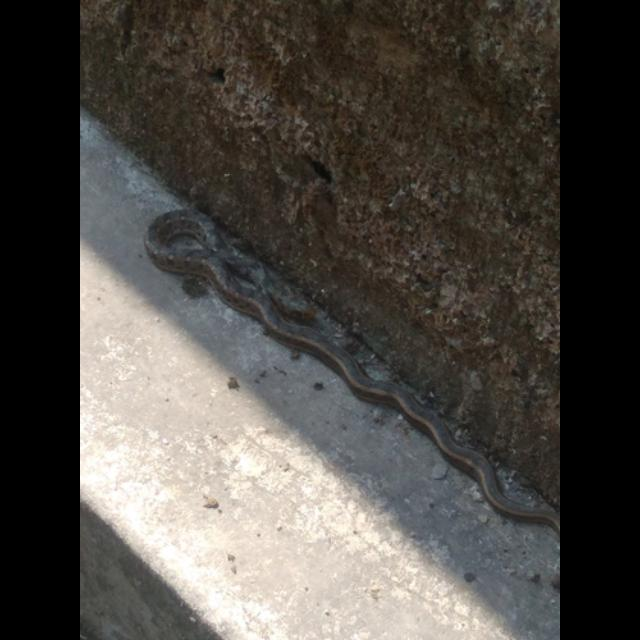snake: (130, 200, 548, 538)
